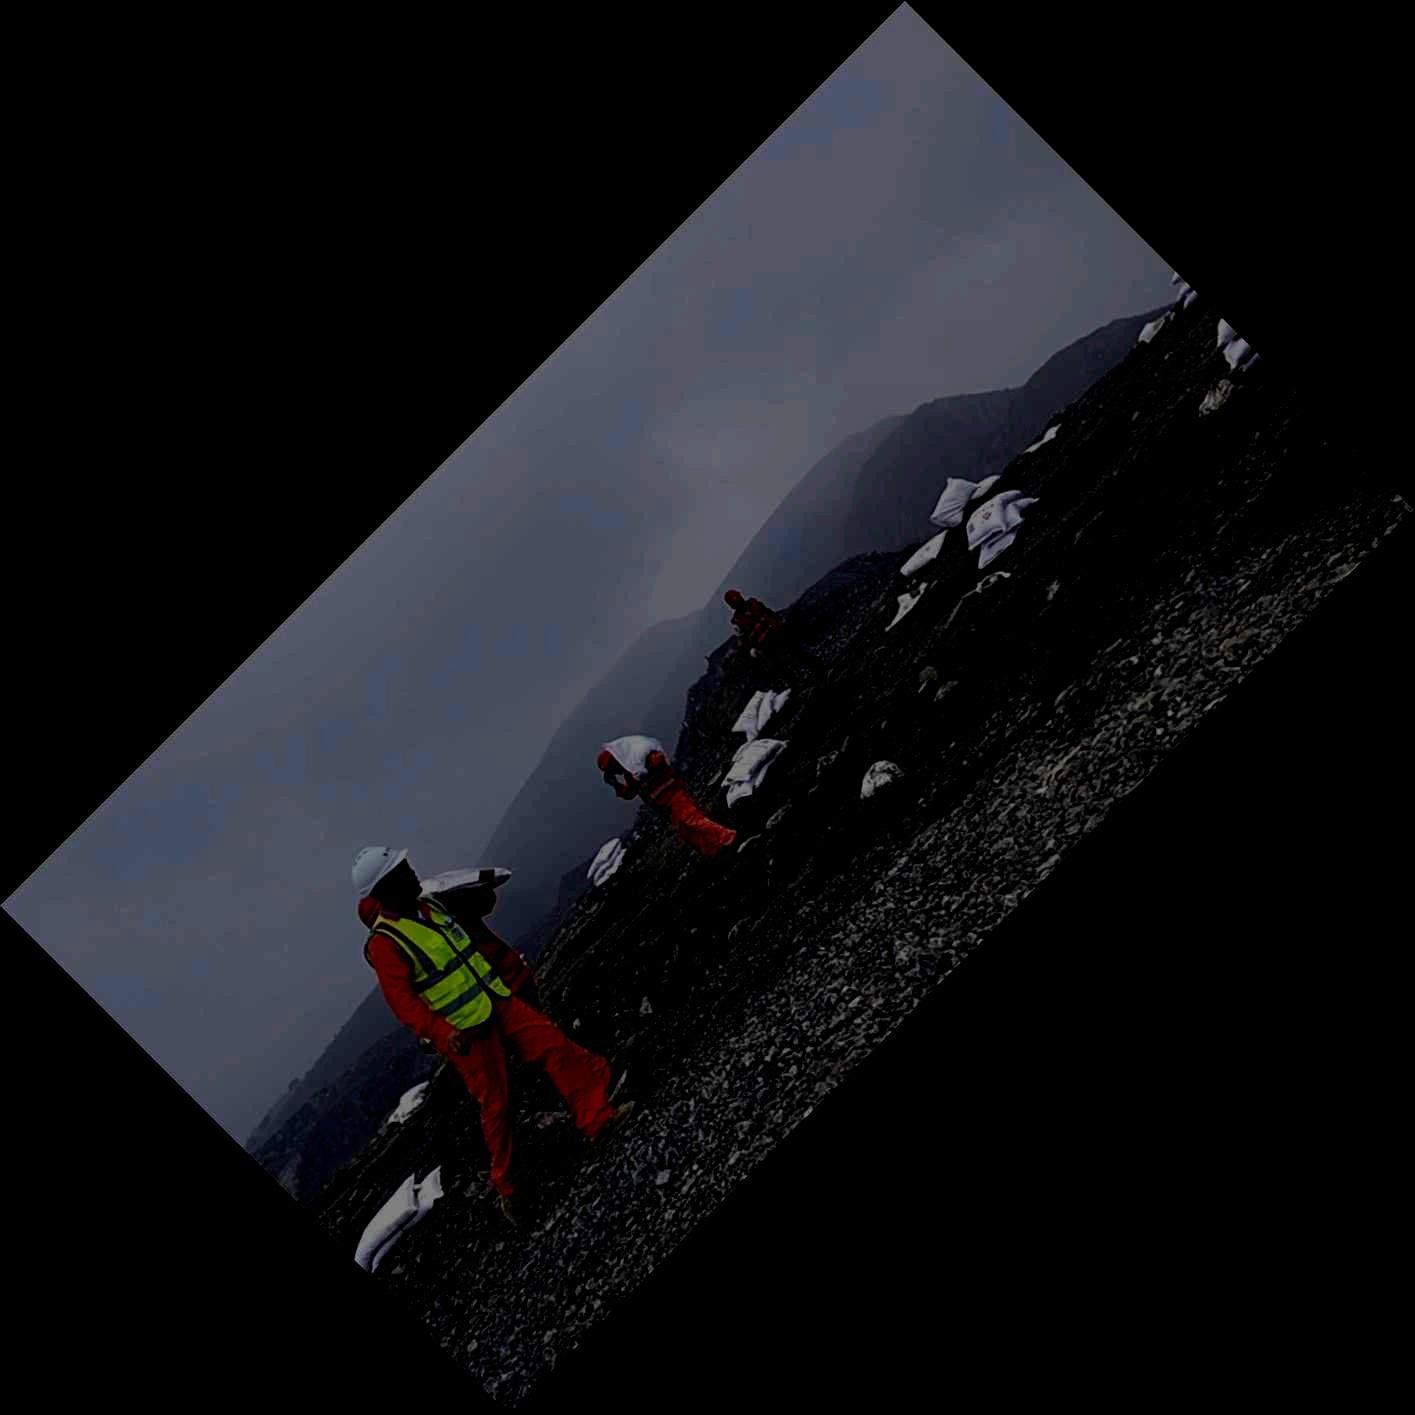helmet: (350, 844, 422, 906), (358, 895, 381, 929), (595, 750, 625, 776)
